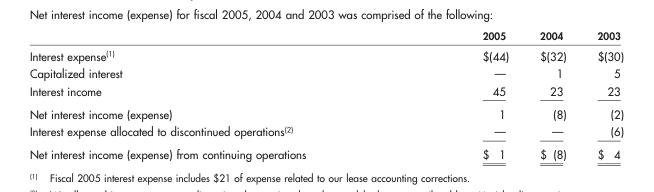table: (28, 29, 622, 161)
table column: (28, 29, 393, 161), (393, 29, 523, 161), (523, 29, 581, 161), (581, 29, 622, 161)
table column header: (28, 29, 622, 45)
table row: (28, 81, 622, 102), (28, 102, 622, 122), (28, 122, 622, 142), (28, 45, 622, 64), (28, 142, 622, 161), (28, 64, 622, 81), (28, 29, 622, 45)
